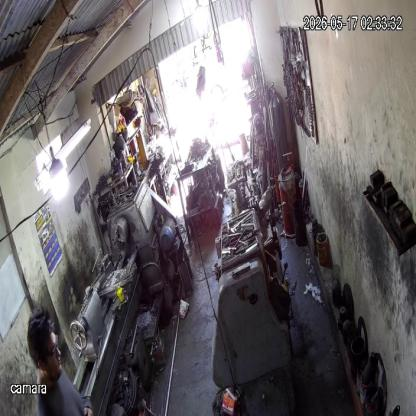lentes: (40, 332, 62, 364)
